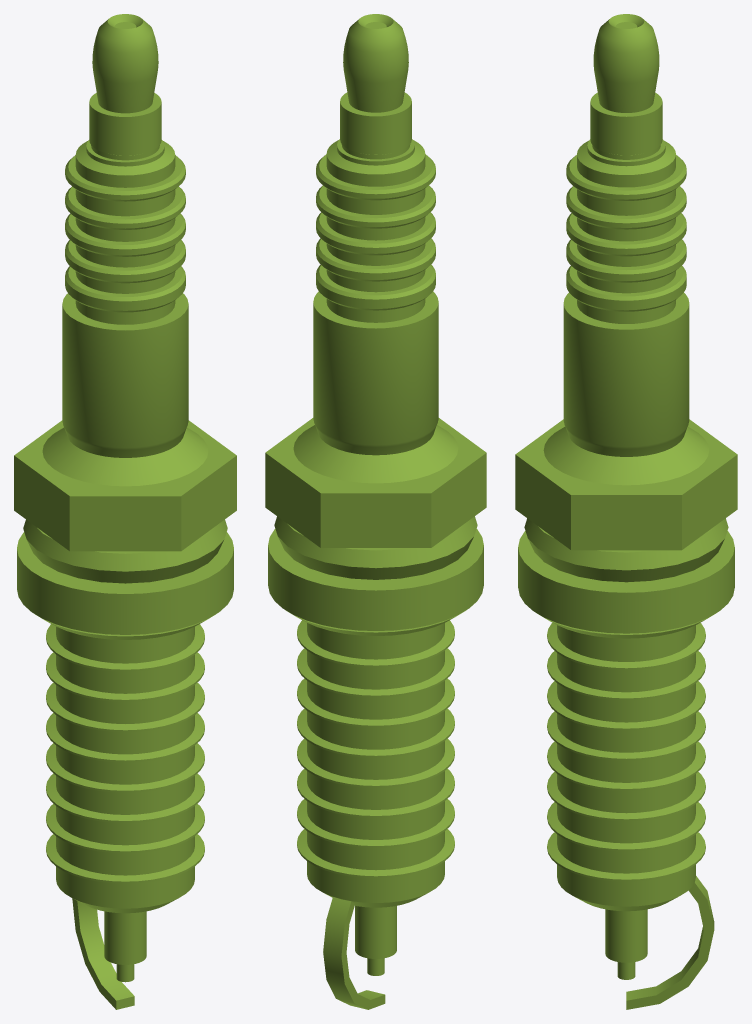
File: svechaZa.fbx
3 renders of one model, left to right at view 1: azimuth 30°, elevation 25°; view 2: azimuth 150°, elevation 25°; view 3: azimuth 270°, elevation 25°, orthographic.
Parts seen in each view (by area): view 1: Svecha; view 2: Svecha; view 3: Svecha.
Part boxes in pixels (<box>): Svecha: <box>14,14,236,1009</box>; Svecha: <box>265,14,486,1009</box>; Svecha: <box>515,14,737,1009</box>.
Bounding box in the file's own units: 7.76 × 38.89 × 7.96.
